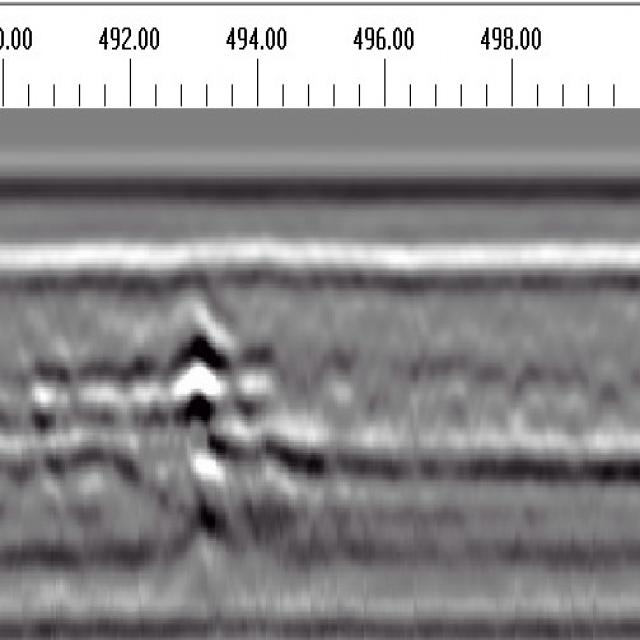loose: (25, 300, 291, 500)
